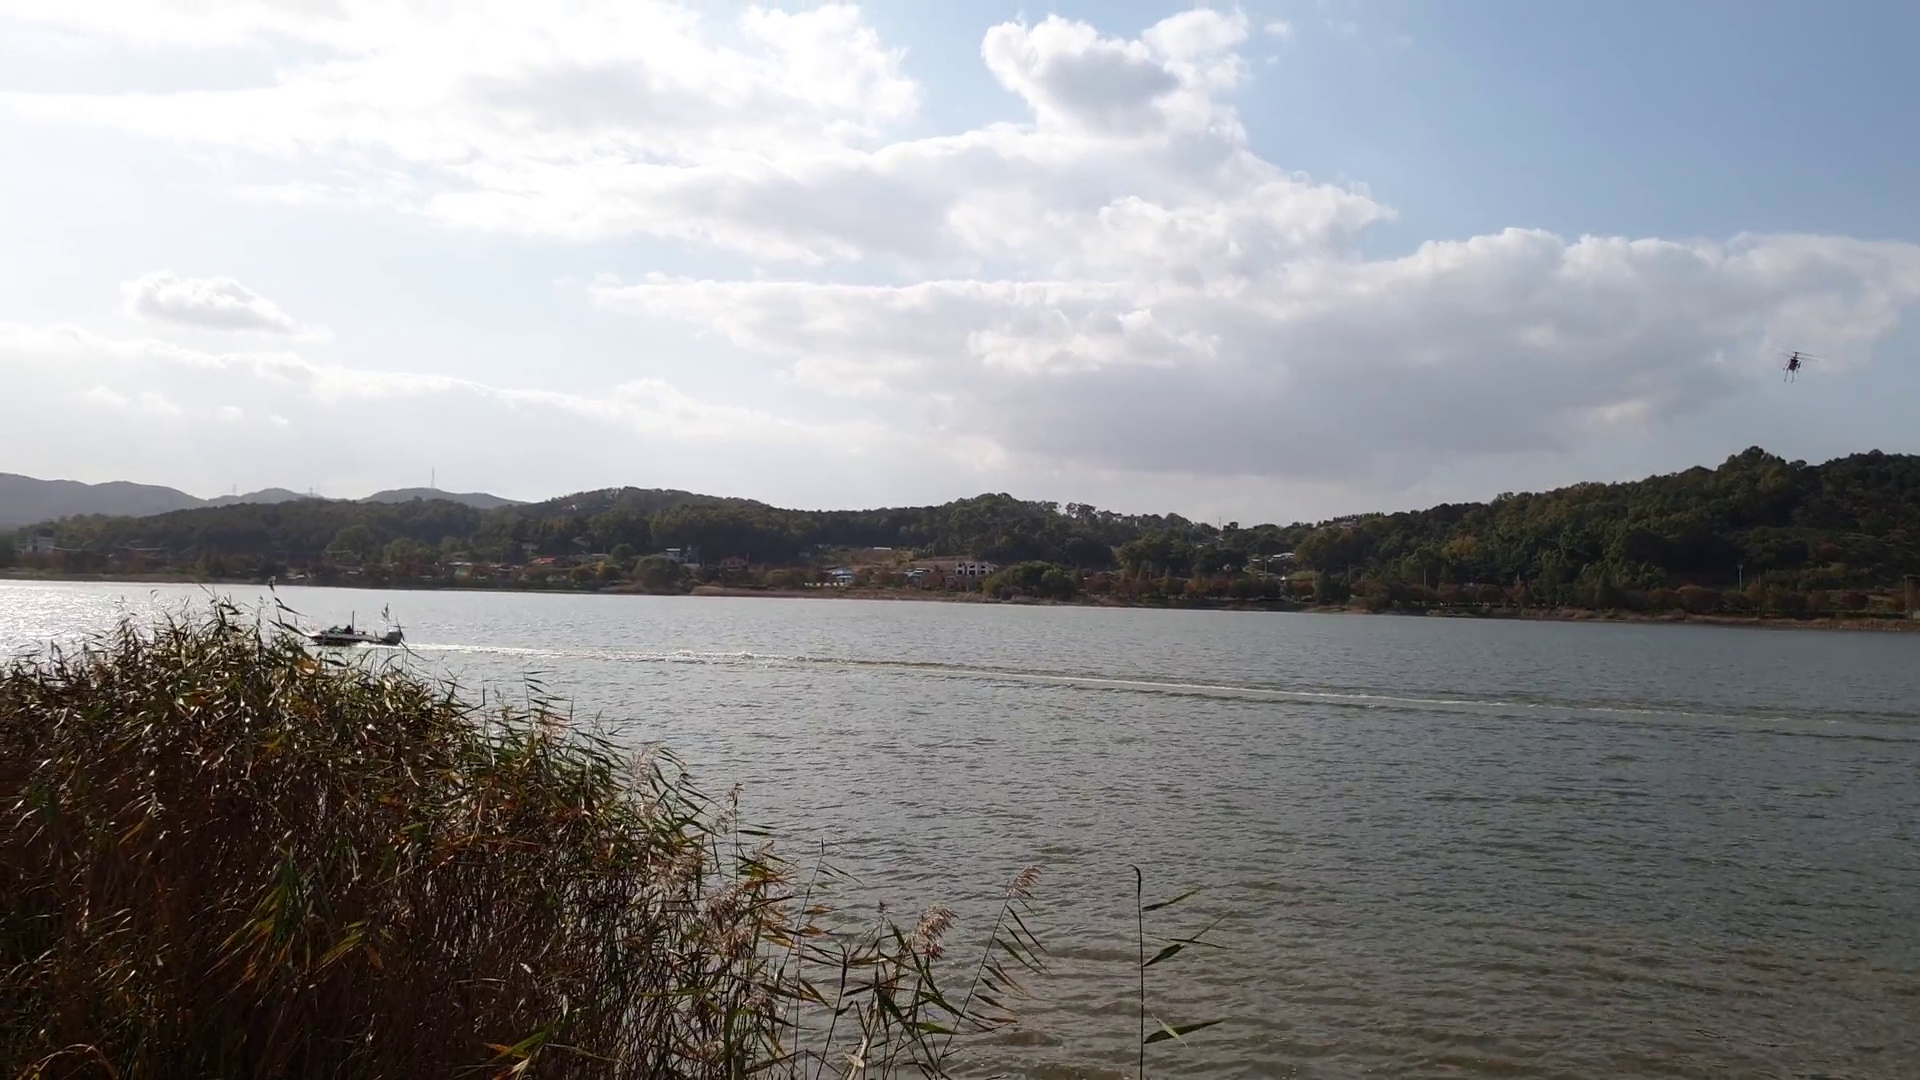heli: (1780, 349, 1818, 372)
